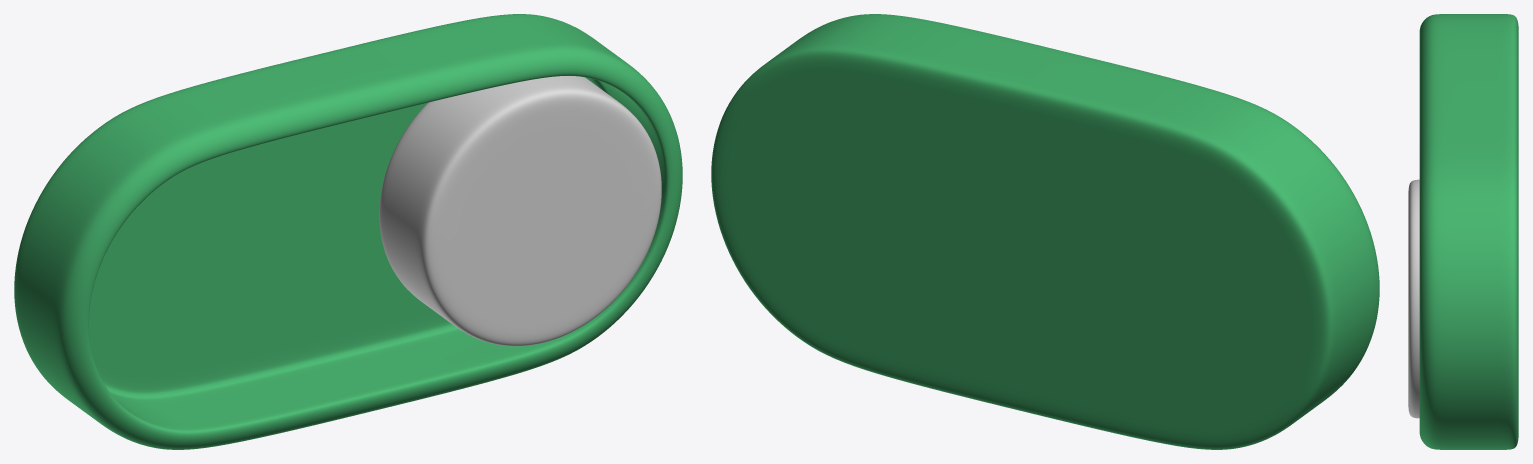
File: toggle.glb
3 views of the same model, side by side, from view 1: azimuth 30°, elevation 25°; view 2: azimuth 150°, elevation 25°; view 3: azimuth 270°, elevation 25° (orthographic). The views are drawn at different scales.
Parts seen in each view (by area): view 1: Circle.019; view 2: Circle.019; view 3: Circle.019.
Boxes of the visible parts, left/top/right/bottom form: Circle.019: left=14, top=14, right=682, bottom=449; Circle.019: left=711, top=14, right=1379, bottom=449; Circle.019: left=1408, top=14, right=1518, bottom=449.
Bounding box in the file's own units: 1.96 × 0.982 × 0.3506.
